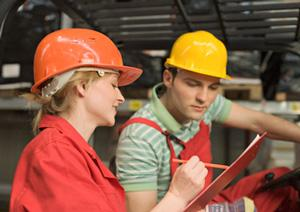helmet: (31, 28, 145, 97), (165, 31, 236, 83)
